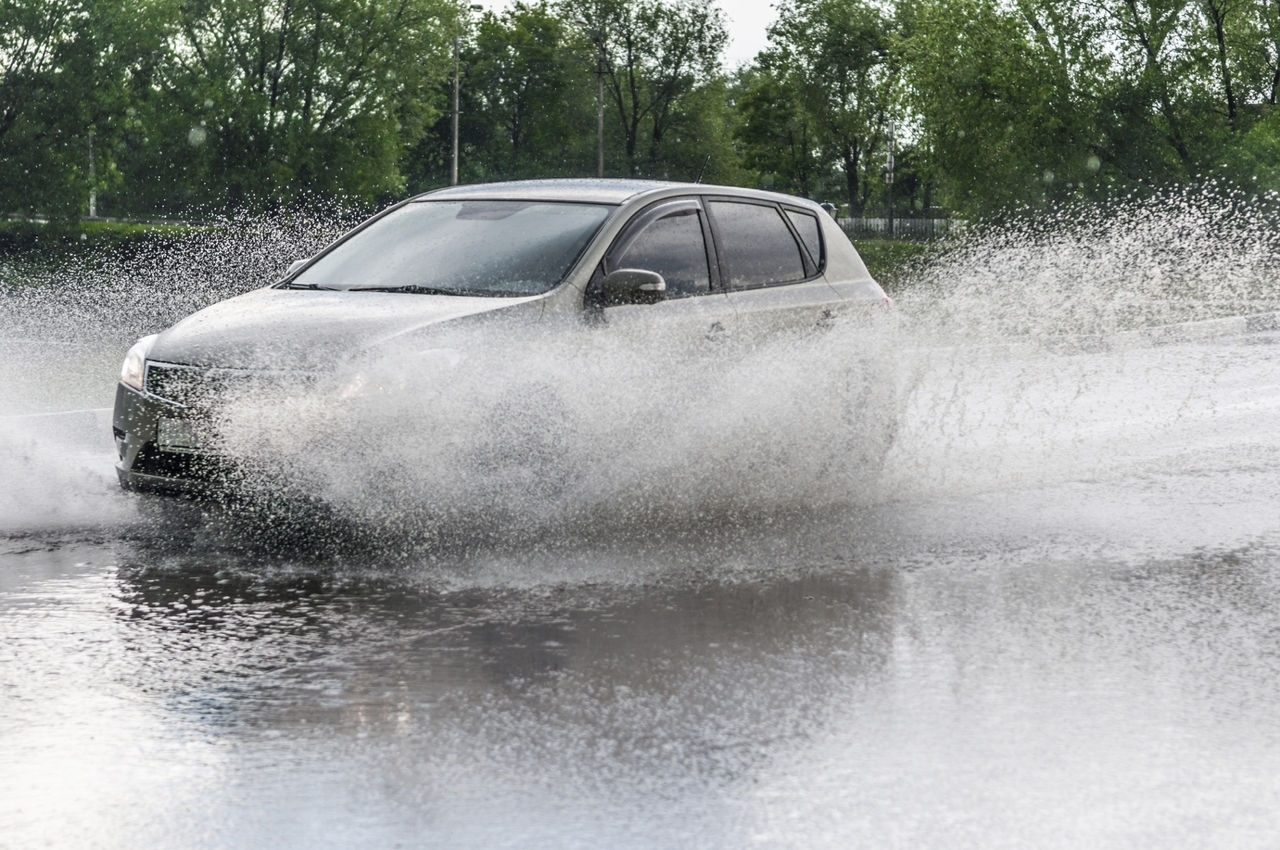car: (119, 181, 898, 508)
